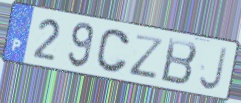2: (31, 17, 63, 63)
9: (67, 21, 95, 69)
B: (159, 36, 199, 87)
C: (94, 27, 131, 75)
J: (197, 45, 229, 93)
Z: (129, 33, 166, 81)
